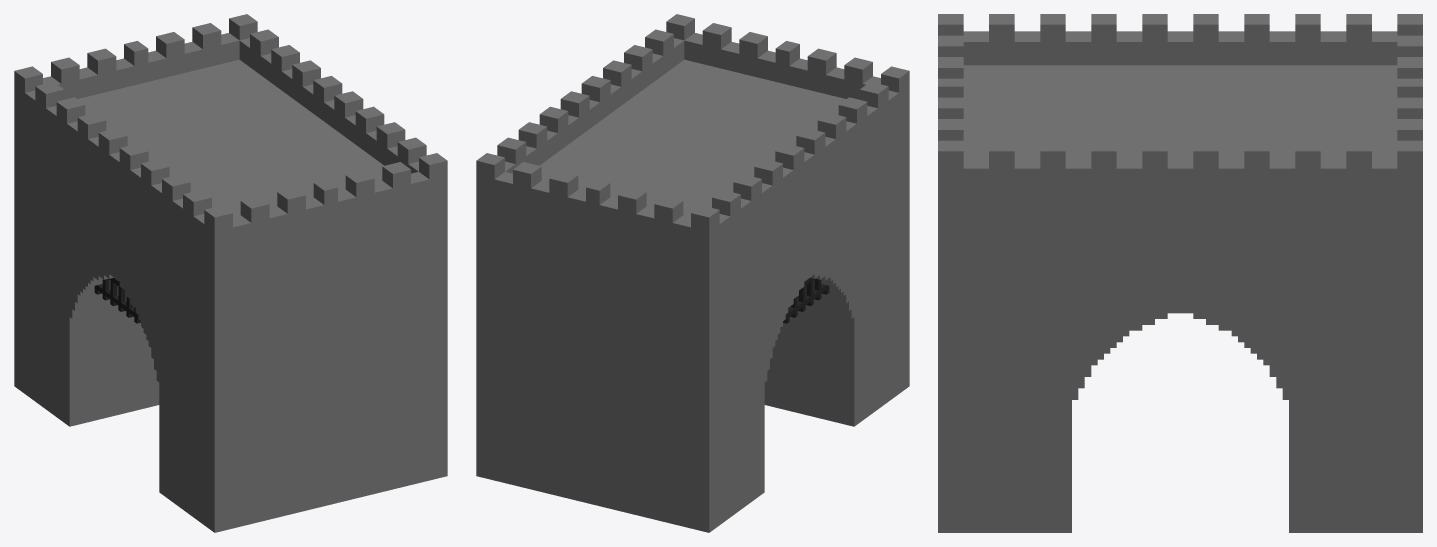
File: Burgtor.fbx
3 views of the same model, side by side, from view 1: azimuth 30°, elevation 25°; view 2: azimuth 150°, elevation 25°; view 3: azimuth 270°, elevation 25° (orthographic). The views are drawn at different scales.
Visible parts, largest first — view 1: Burgtor; view 2: Burgtor; view 3: Burgtor.
Part boxes in pixels (left/top/right/bottom): Burgtor: left=14, top=14, right=447, bottom=532; Burgtor: left=476, top=14, right=909, bottom=532; Burgtor: left=938, top=14, right=1422, bottom=532.
Bounding box in the file's own units: 510 × 660 × 760.
1 material, 1 textured.
